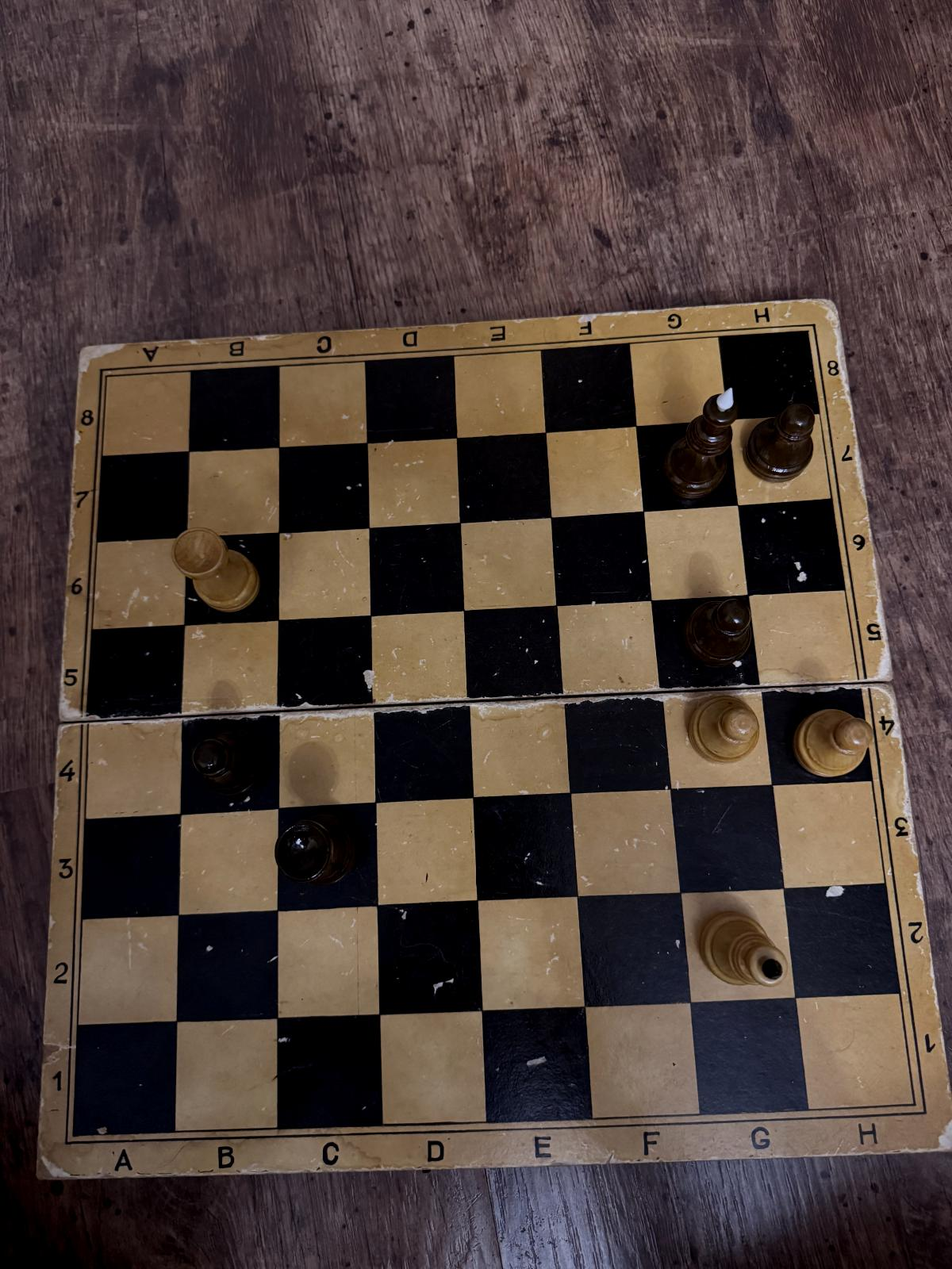Chess-Board: (73, 331, 914, 1136)
